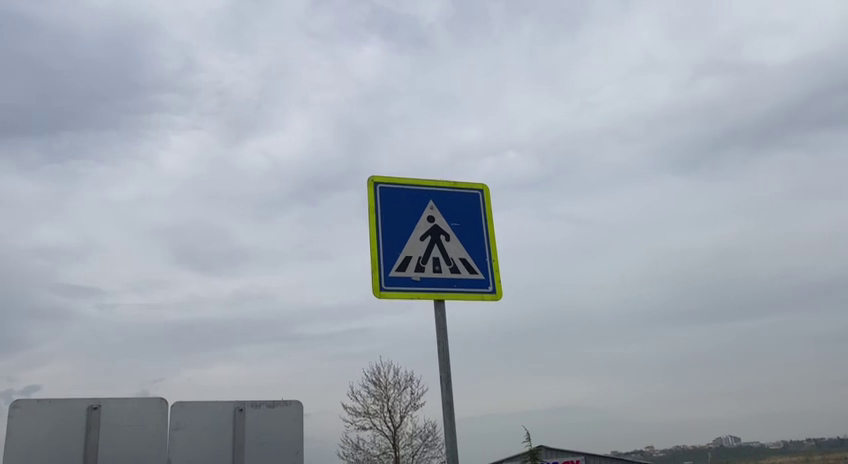pedestrianCrossing: (364, 173, 505, 303)
